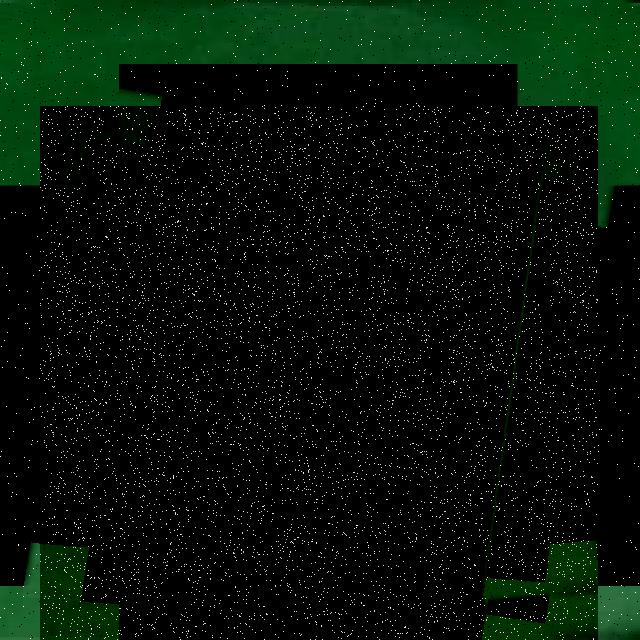dua ribu rupiah: (40, 106, 598, 640)
